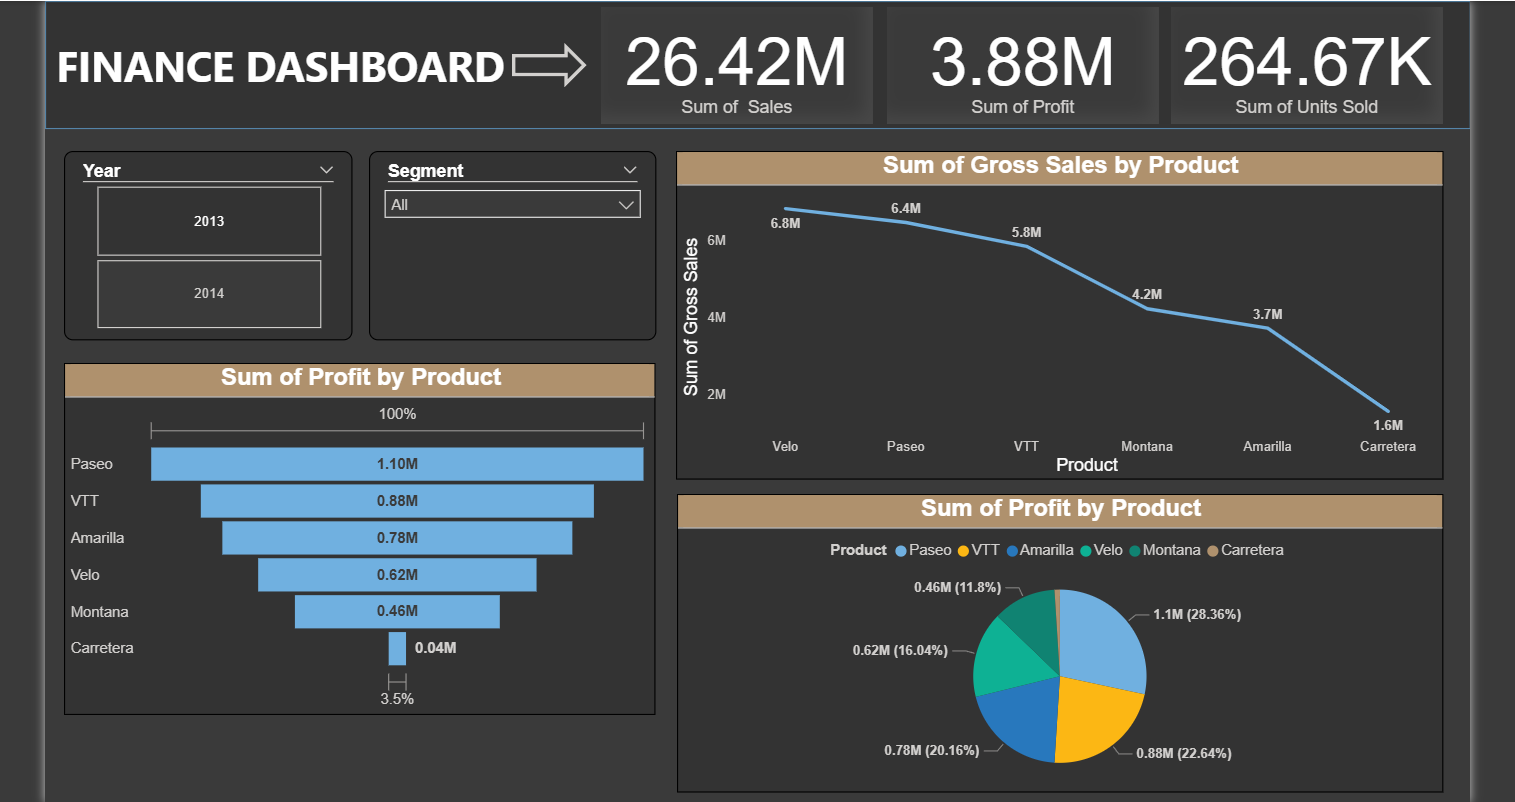

The dashboard page shown, as its layout file describes it:
{"tool":"powerbi","page":{"name":"Dashboard","canvas":[1280,720],"ordinal":1},"visuals":[{"type":"shape","box":[0,0,1280,115],"z":0,"group":"g1"},{"type":"lineChart","fields":{"Category":["financials.Product"],"Y":["Sum(financials.Gross Sales)"]},"box":[566.2,135,688.8,295],"z":0},{"type":"card","fields":{"Values":["Sum(financials. Sales)"]},"box":[498.8,5,243.8,105],"z":1000,"group":"g1"},{"type":"pieChart","fields":{"Category":["financials.Product"],"Y":["Sum(financials.Profit)"]},"box":[567.5,442.5,687.5,267.5],"z":1000},{"type":"slicer","fields":{"Values":["financials.Segment"]},"box":[291.2,135,257.5,170],"z":2000},{"type":"slicer","fields":{"Values":["financials.Date.Variation.Date Hierarchy.Year"]},"box":[17.5,135,258.8,170],"z":3000},{"type":"group","id":"g1","title":"Group 1","box":[0,0,1280,115],"z":4000},{"type":"funnel","fields":{"Category":["financials.Product"],"Y":["Sum(financials.Profit)"]},"box":[17.5,325,531.2,316.2],"z":5000},{"type":"pageNavigator","box":[17.5,660,531.2,50],"z":6000},{"type":"card","fields":{"Values":["Sum(financials.Profit)"]},"box":[756.2,5,243.8,105],"z":7000,"group":"g1"},{"type":"actionButton","box":[419.7,37.4,66.9,39.7],"z":7000},{"type":"card","fields":{"Values":["Sum(financials.Units Sold)"]},"box":[1011.2,5,243.8,105],"z":8000,"group":"g1"}]}

Visuals, with their boxes on the page's 1280x720 design canvas (x1, y1, x2, y2). These are canvas units, not pixel positions in the 1515x802 screenshot, which may show the page scaled, cropped or inside an application window:
shape: [0, 0, 1280, 115]
lineChart - financials.Product x Sum(financials.Gross Sales): [566, 135, 1255, 430]
card - Sum(financials. Sales): [499, 5, 743, 110]
pieChart - financials.Product x Sum(financials.Profit): [568, 442, 1255, 710]
slicer - financials.Segment: [291, 135, 549, 305]
slicer - financials.Date.Variation.Date Hierarchy.Year: [18, 135, 276, 305]
"Group 1" group: [0, 0, 1280, 115]
funnel - financials.Product x Sum(financials.Profit): [18, 325, 549, 641]
pageNavigator: [18, 660, 549, 710]
card - Sum(financials.Profit): [756, 5, 1000, 110]
actionButton: [420, 37, 487, 77]
card - Sum(financials.Units Sold): [1011, 5, 1255, 110]
